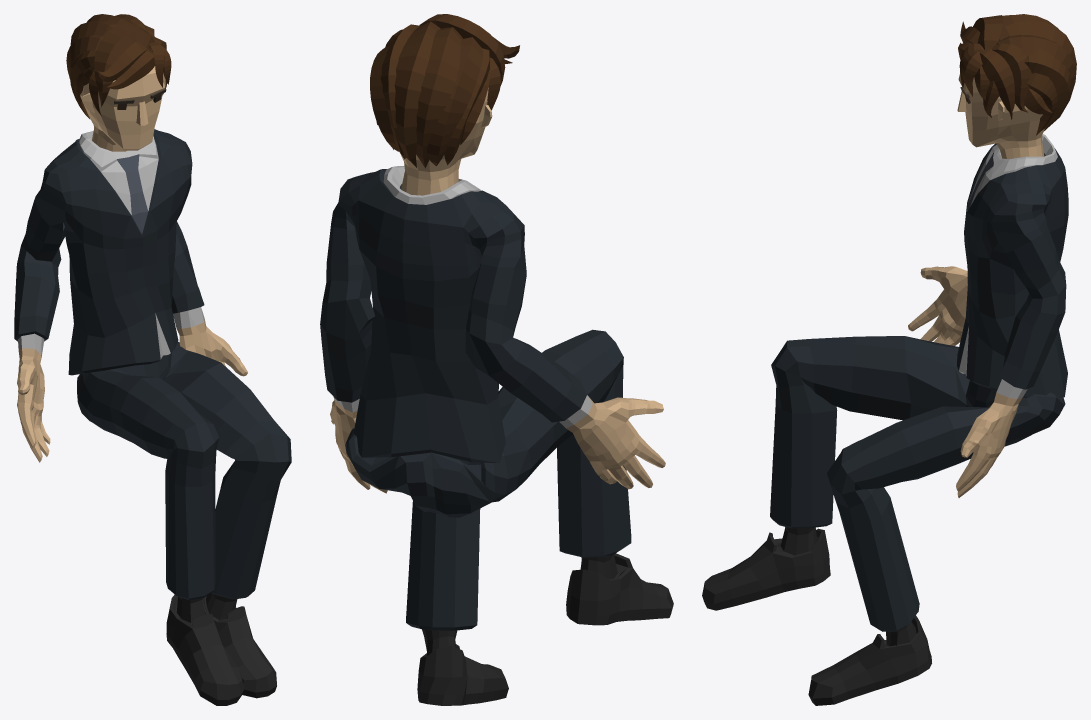
Rendered from man-suit.glb.
3 renders of one model, left to right at view 1: azimuth 30°, elevation 25°; view 2: azimuth 150°, elevation 25°; view 3: azimuth 270°, elevation 25°, orthographic. The views are drawn at different scales.
Parts seen in each view (by area): view 1: man-suit; view 2: man-suit; view 3: man-suit.
Part boxes in pixels (<box>): man-suit: <box>14,14,291,705</box>; man-suit: <box>320,14,673,705</box>; man-suit: <box>702,14,1076,705</box>.
Bounding box in the file's own units: 0.6292 × 1.5 × 0.7766.
